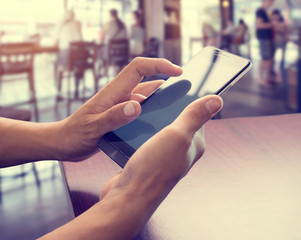Cell Phone: (99, 47, 252, 168)
